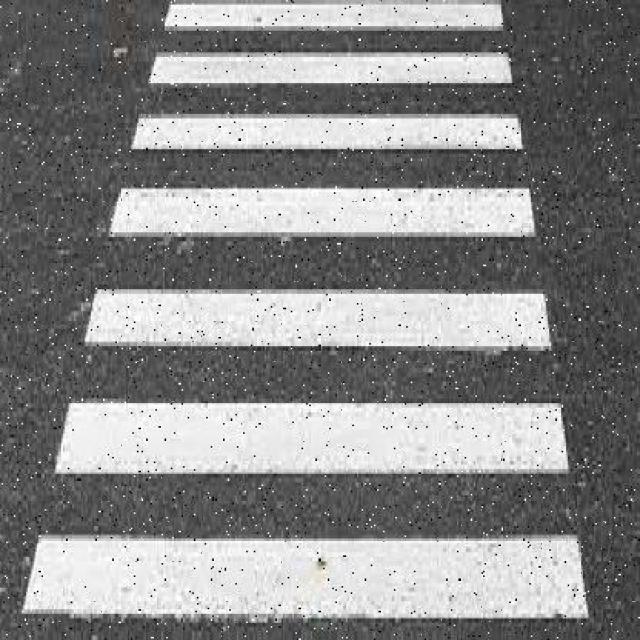crosswalk: (19, 0, 592, 623)
